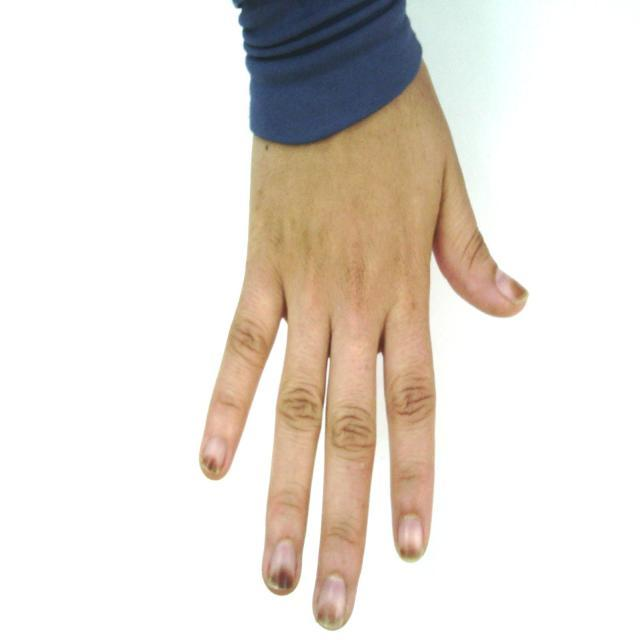Fingernail: (316, 575, 346, 630), (269, 541, 296, 592), (399, 515, 424, 561), (497, 271, 528, 302), (203, 438, 226, 475)
